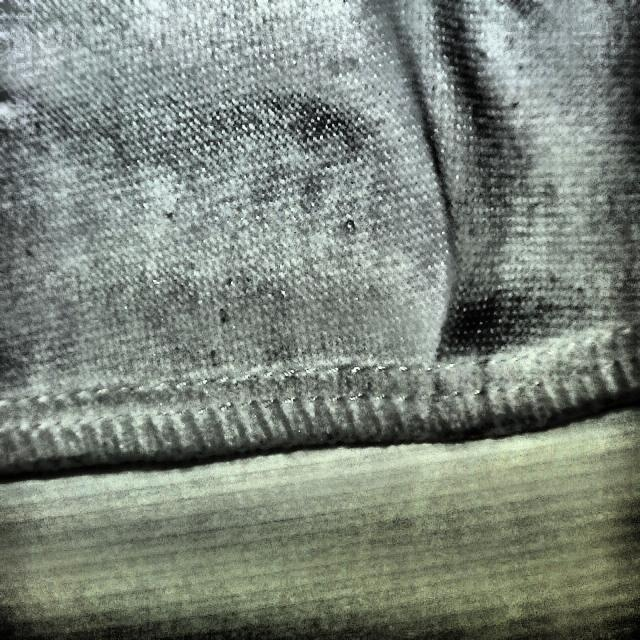seam: (362, 120, 561, 459)
